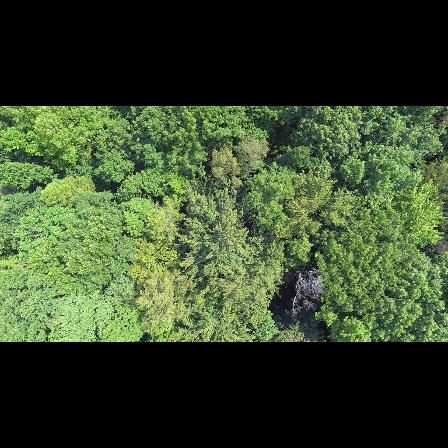Dead: (289, 266, 328, 317)
